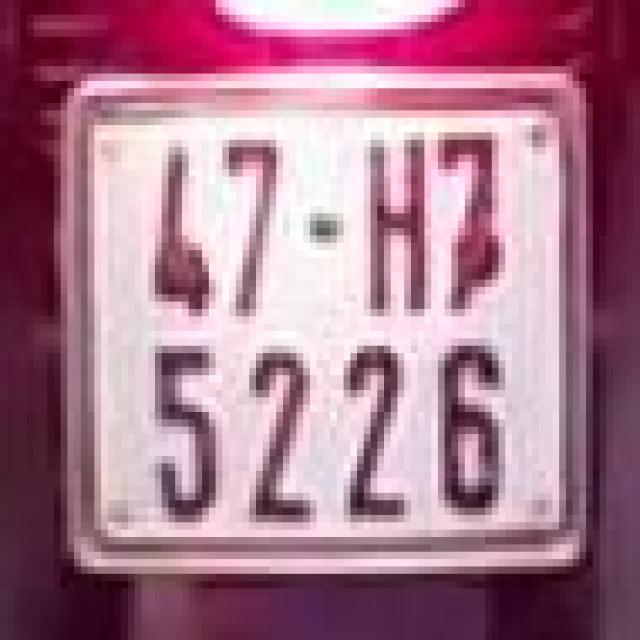2: (330, 331, 425, 522), (246, 338, 320, 530)
4: (145, 132, 219, 316)
5: (142, 327, 229, 519)
6: (431, 324, 519, 522)
7: (431, 121, 512, 320), (212, 129, 286, 320)
H: (347, 125, 428, 316)
